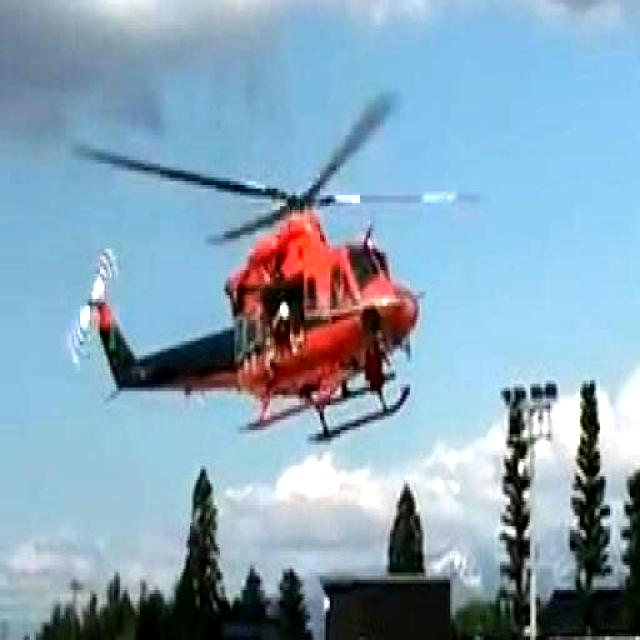drone: (84, 140, 434, 456)
